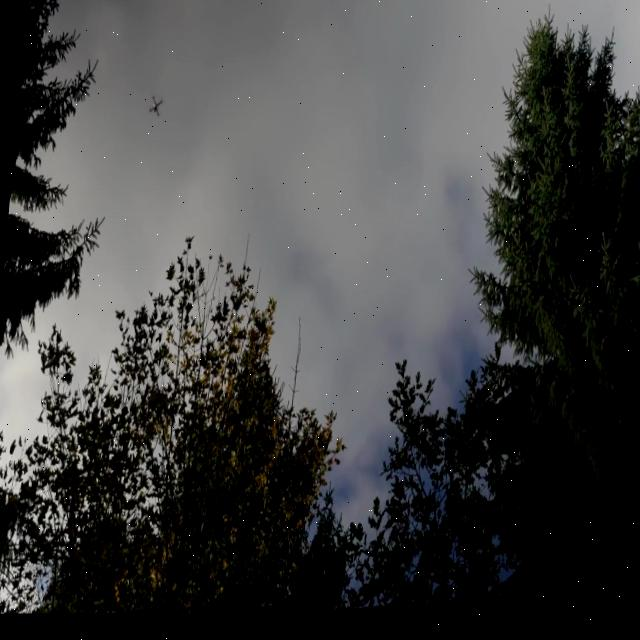drone: (148, 96, 162, 121)
